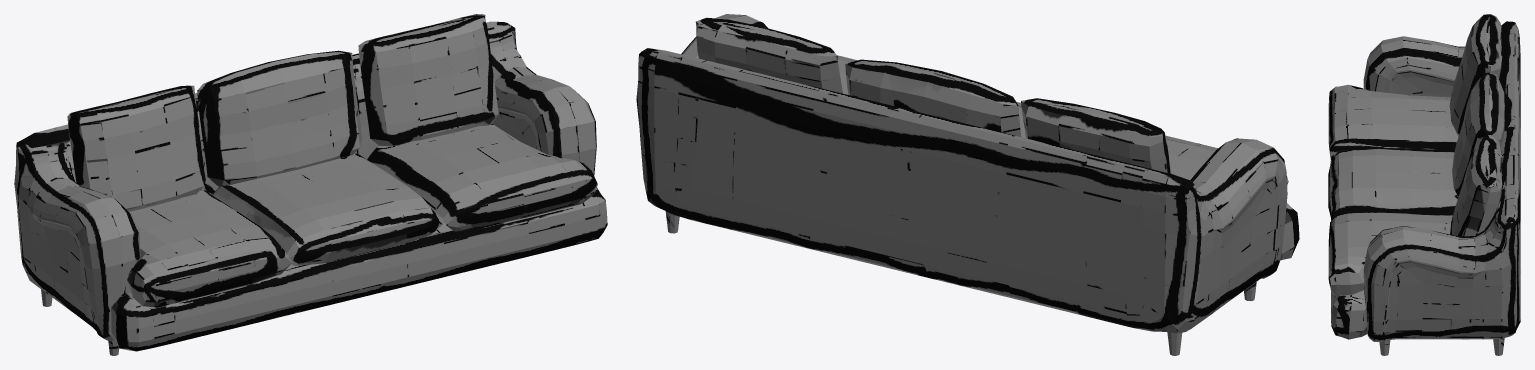
Rendered from bigmode_couch.glb.
3 views of the same model, side by side, from view 1: azimuth 30°, elevation 25°; view 2: azimuth 150°, elevation 25°; view 3: azimuth 270°, elevation 25° (orthographic). The views are drawn at different scales.
Visible parts, largest first — view 1: Sofa2; view 2: Sofa2; view 3: Sofa2.
Part boxes in pixels (box(x1,y1,x2,y2)): Sofa2: box(14, 14, 607, 355); Sofa2: box(636, 14, 1299, 355); Sofa2: box(1328, 14, 1520, 355).
Bounding box in the file's own units: 4 × 1.45 × 1.54.
1 material, 1 textured.
